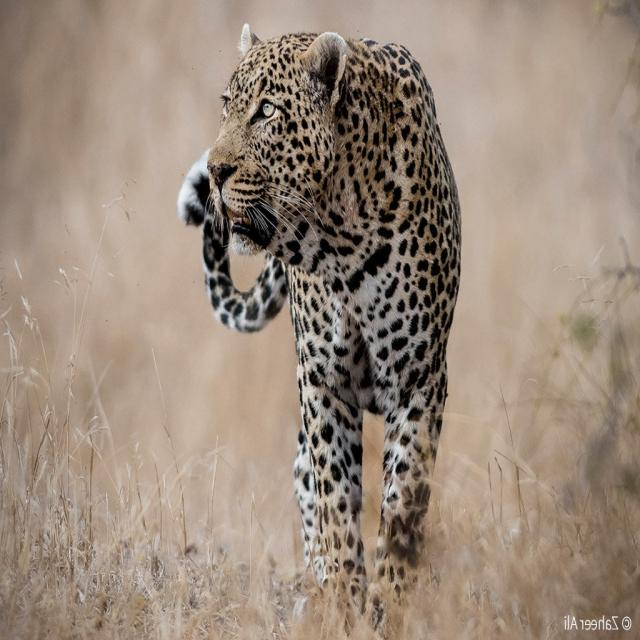leopard: (179, 25, 461, 624)
